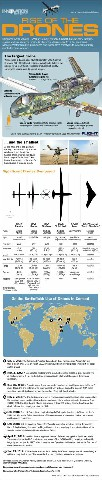maybay_khongnguoilai: (4, 57, 102, 126)
